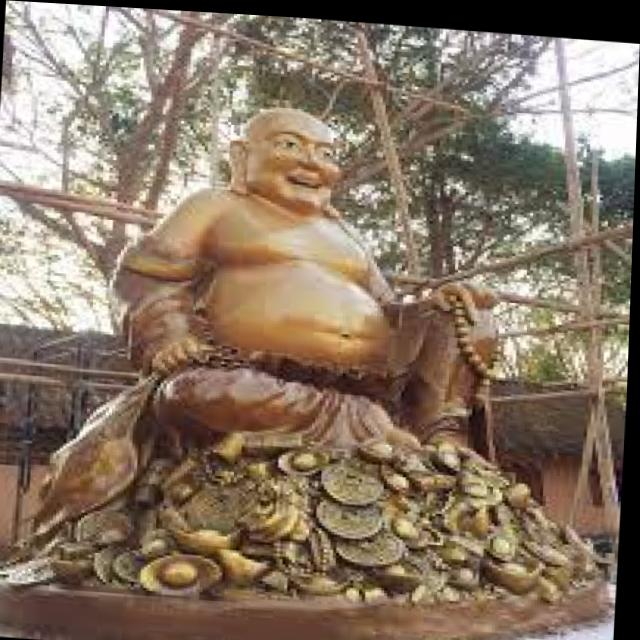Smiling Buddha: (128, 89, 457, 443)
